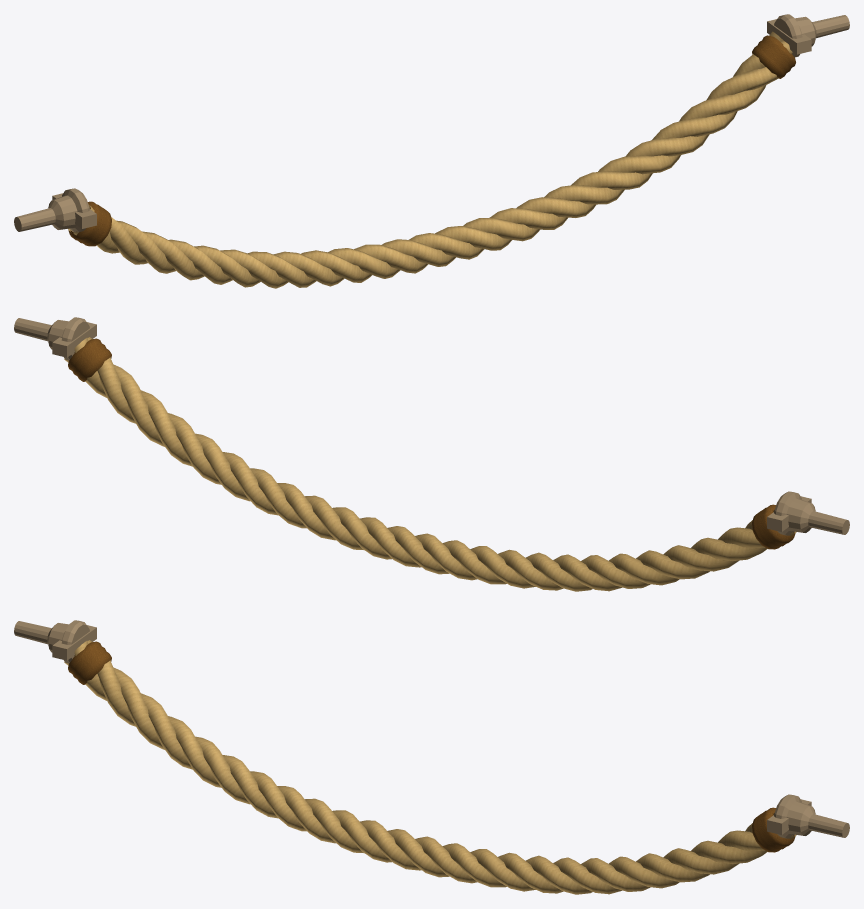
File: dock-rope-BBvlSyy4.glb
The picture shows the model from 3 angles, top to bottom: view 1: azimuth 30°, elevation 25°; view 2: azimuth 150°, elevation 25°; view 3: azimuth 330°, elevation 25°; orthographic projection.
Visible parts, largest first — view 1: dock-rope; view 2: dock-rope; view 3: dock-rope.
Part boxes in pixels (x1,y1,x2,y2): dock-rope: [14, 14, 849, 288]; dock-rope: [14, 317, 849, 591]; dock-rope: [14, 620, 849, 894].
Size of the model in its own units: 2.7 by 0.5054 by 0.168.
2 materials, 1 textured.
